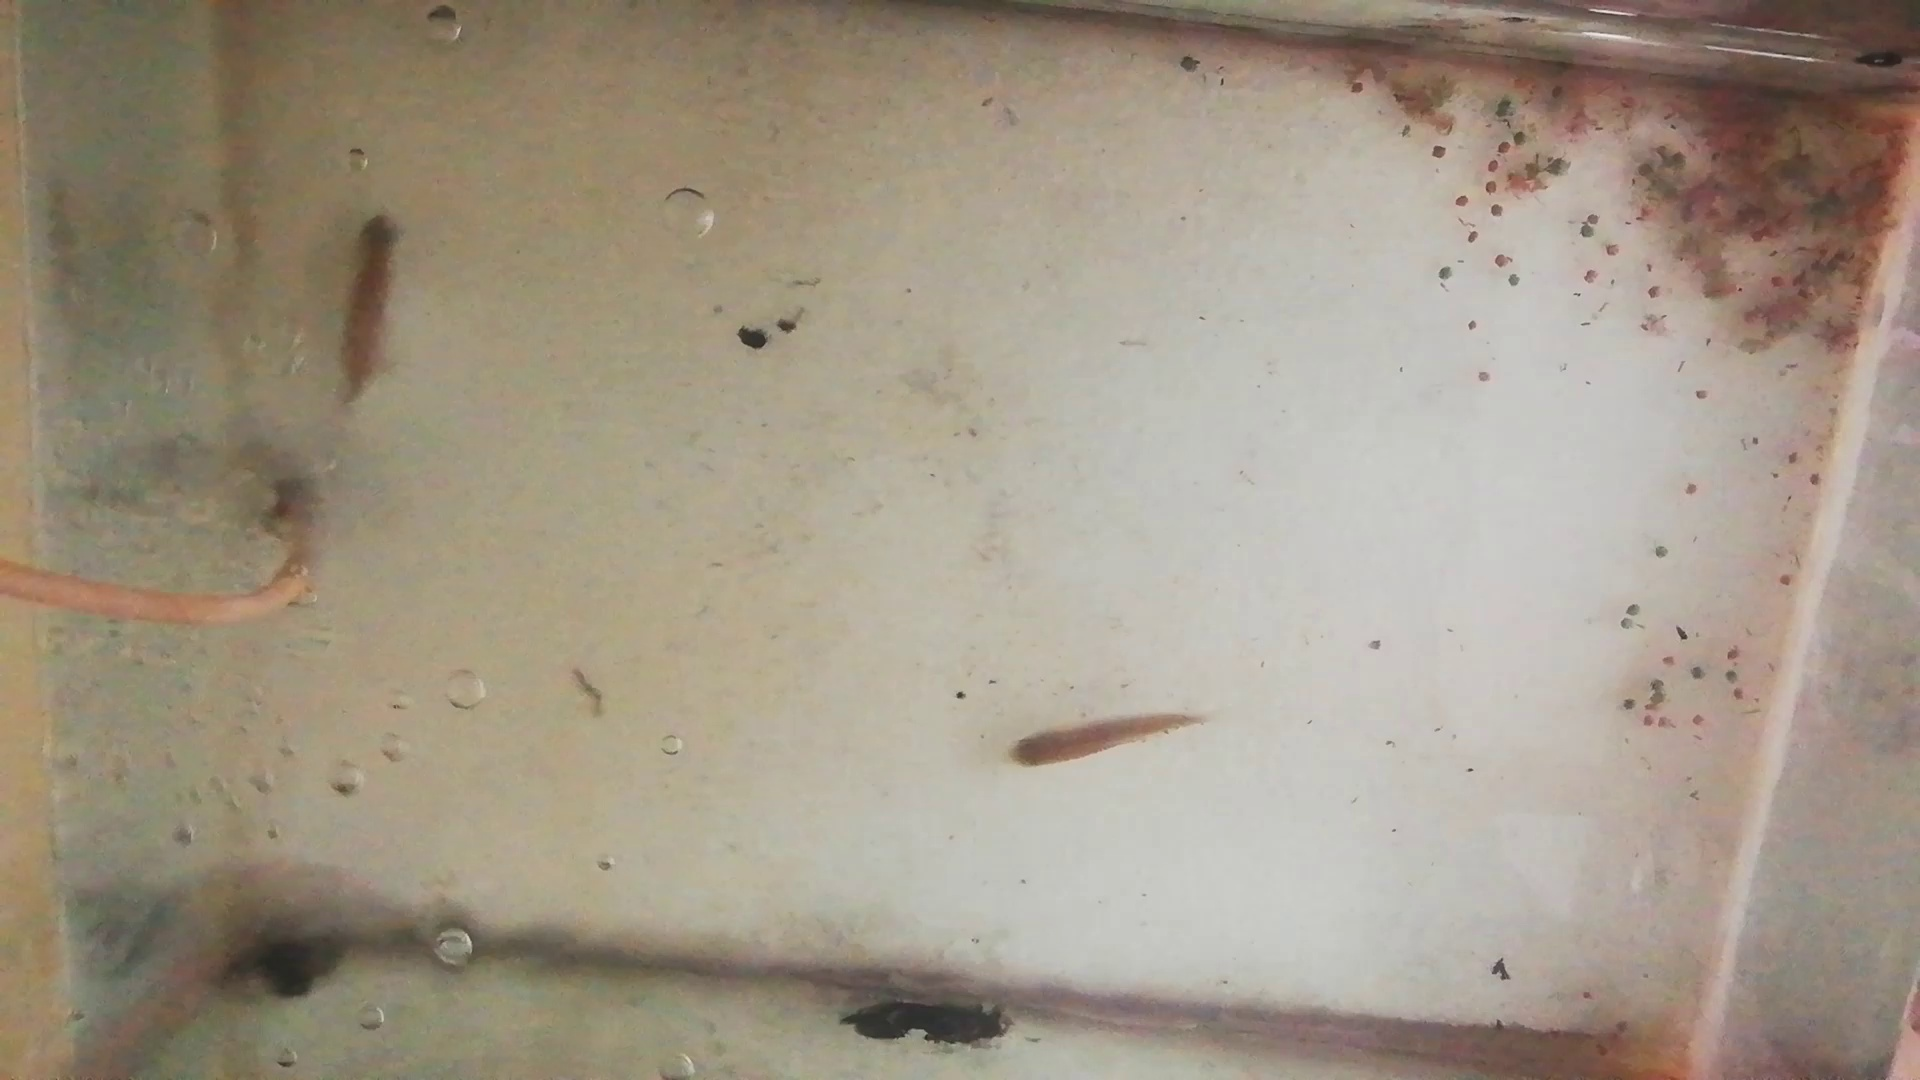fish: (342, 214, 401, 411), (1010, 713, 1211, 770)
